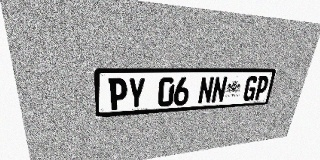0: (157, 77, 175, 107)
6: (173, 77, 191, 106)
G: (242, 76, 259, 101)
N: (197, 77, 215, 104), (211, 76, 228, 103)
P: (108, 78, 127, 110), (253, 76, 270, 100)
Y: (127, 77, 146, 109)
